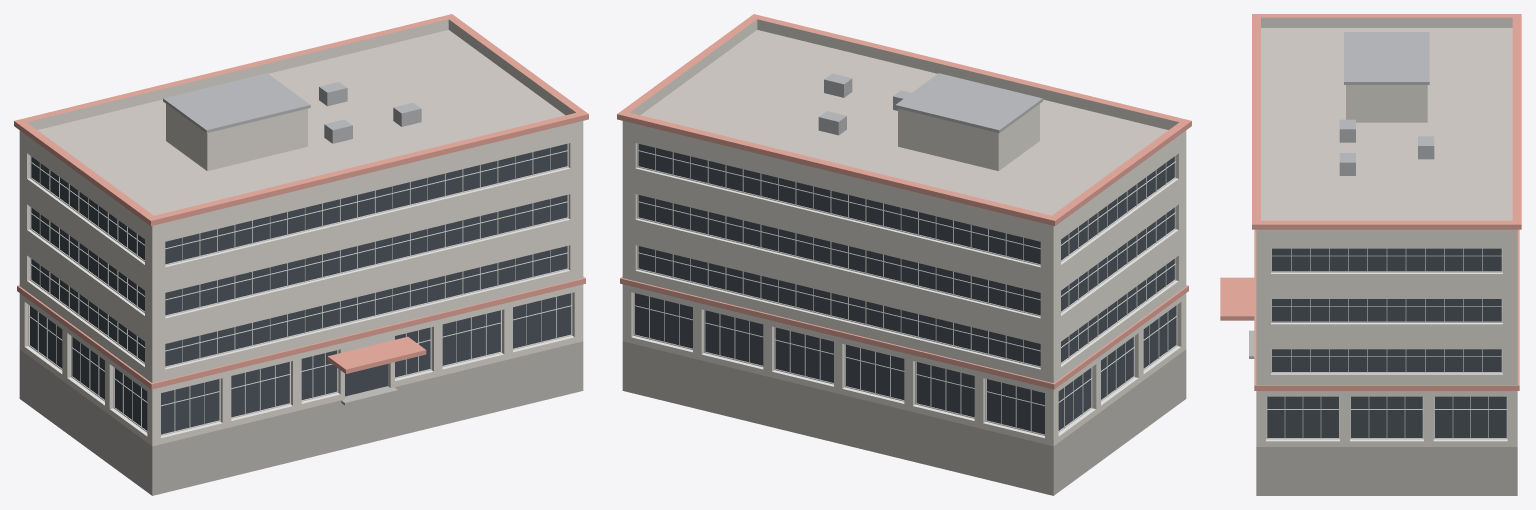
Rendered from office_4_l.glb.
The picture shows the model from 3 angles, left to right: view 1: azimuth 30°, elevation 25°; view 2: azimuth 150°, elevation 25°; view 3: azimuth 270°, elevation 25°; orthographic projection.
Parts seen in each view (by area): view 1: office_4_l; view 2: office_4_l; view 3: office_4_l.
Part boxes in pixels (<box>): office_4_l: <box>14,14,588,495</box>; office_4_l: <box>617,14,1191,495</box>; office_4_l: <box>1220,14,1521,495</box>.
Size of the model in its own units: 30.5 by 20.55 by 18.45.
